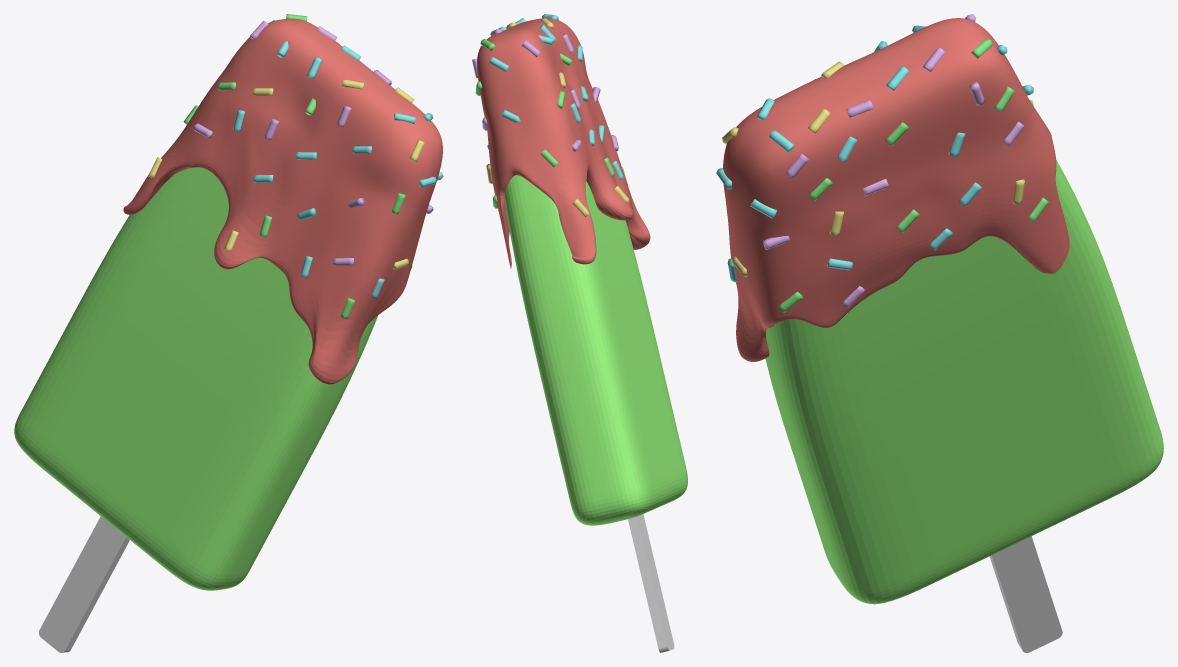
File: icecream_apple.fbx
The picture shows the model from 3 angles, left to right: view 1: azimuth 30°, elevation 25°; view 2: azimuth 150°, elevation 25°; view 3: azimuth 270°, elevation 25°; orthographic projection. The views are drawn at different scales.
Visible parts, largest first — view 1: ice cream.001, cream.001, wood.001; view 2: ice cream.001, cream.001, wood.001; view 3: ice cream.001, cream.001, wood.001.
Part boxes in pixels (x1,y1,x2,y2): ice cream.001: (14, 167, 377, 590); cream.001: (123, 18, 442, 384); wood.001: (39, 516, 129, 652); ice cream.001: (504, 175, 687, 525); cream.001: (477, 18, 650, 268); wood.001: (628, 514, 674, 652); ice cream.001: (765, 159, 1163, 604); cream.001: (723, 18, 1069, 361); wood.001: (989, 536, 1062, 652).
Bounding box in the file's own units: 229 × 460 × 251.
